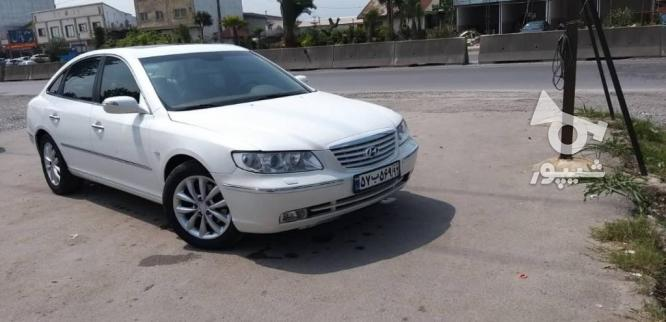car: (354, 157, 400, 197)
